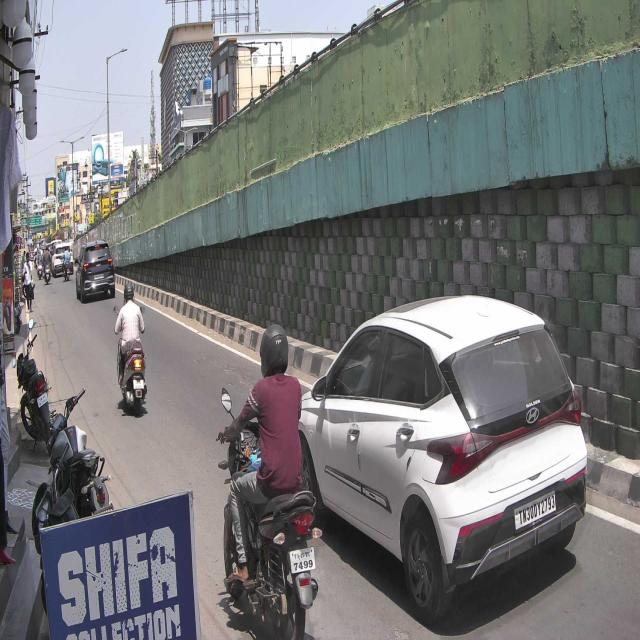single_rider: (216, 323, 324, 640)
